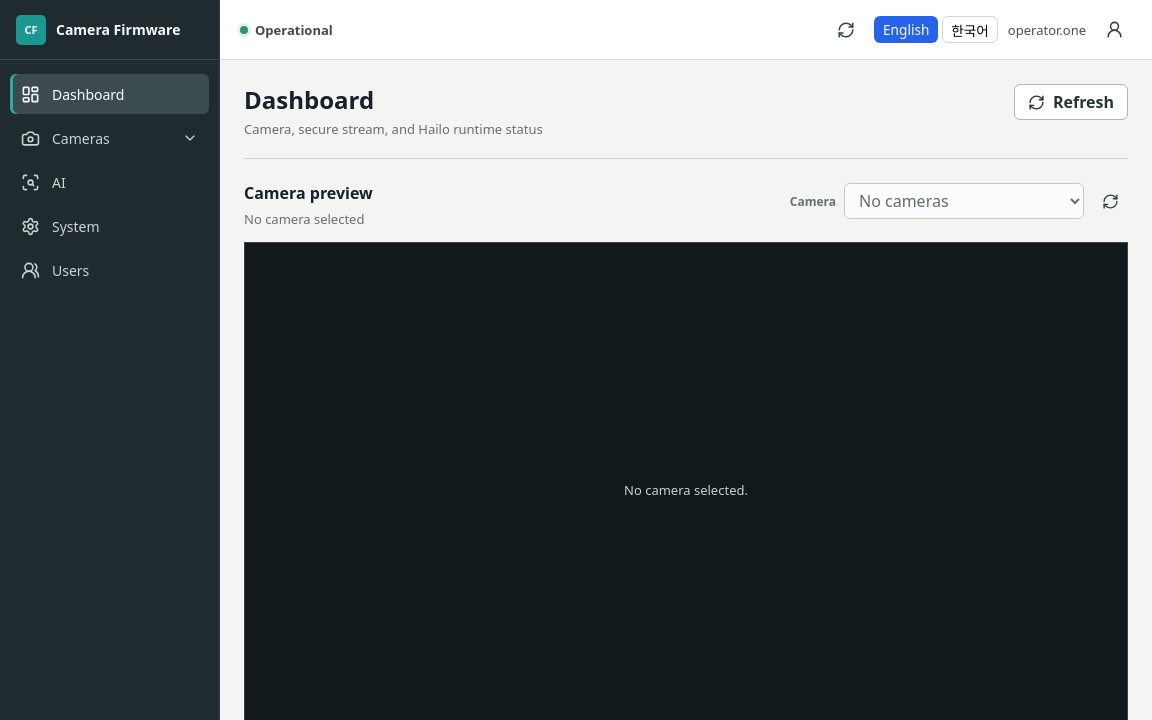
Test: App bootstrap gate › keeps one runtime settings controller across operational navigation
The image size is (1152, 720).
Expected: the heading "Dashboard" is shown, [244,83,374,116]
Click the button "Cameras". click: (110, 138)
box: [10,118,209,158]
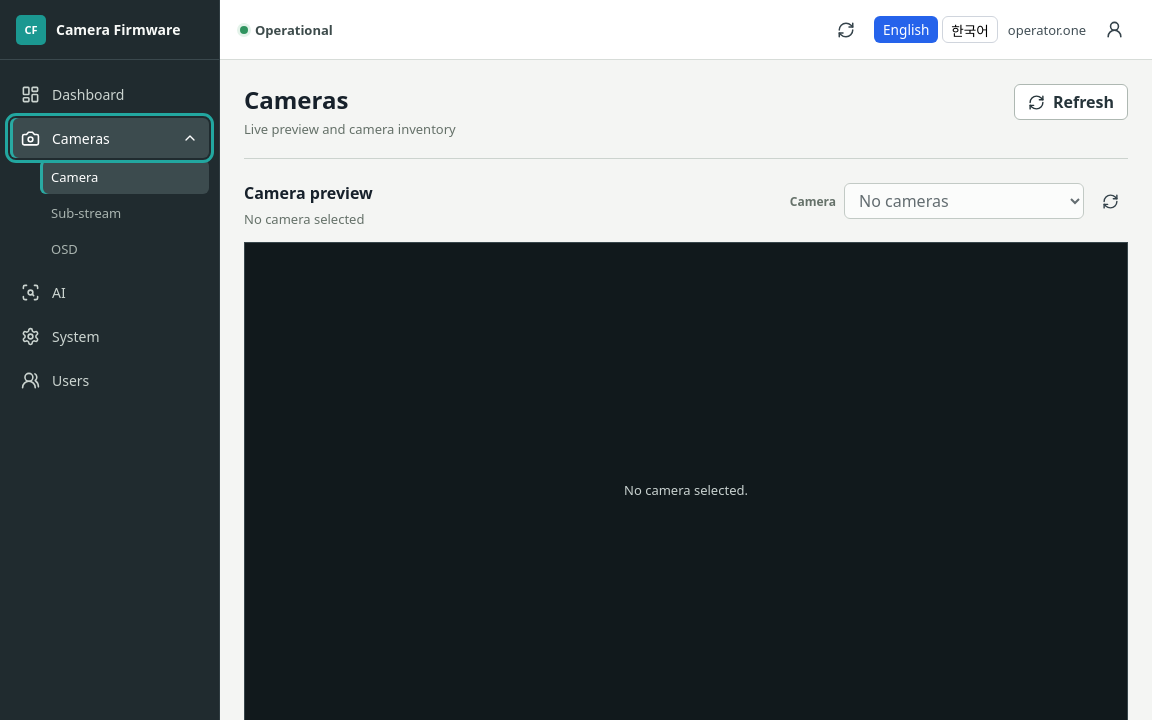
Result: the heading "Cameras" is shown at [244,83,348,116]
Click the link "AI". click: (30, 292)
box: [21,282,66,302]
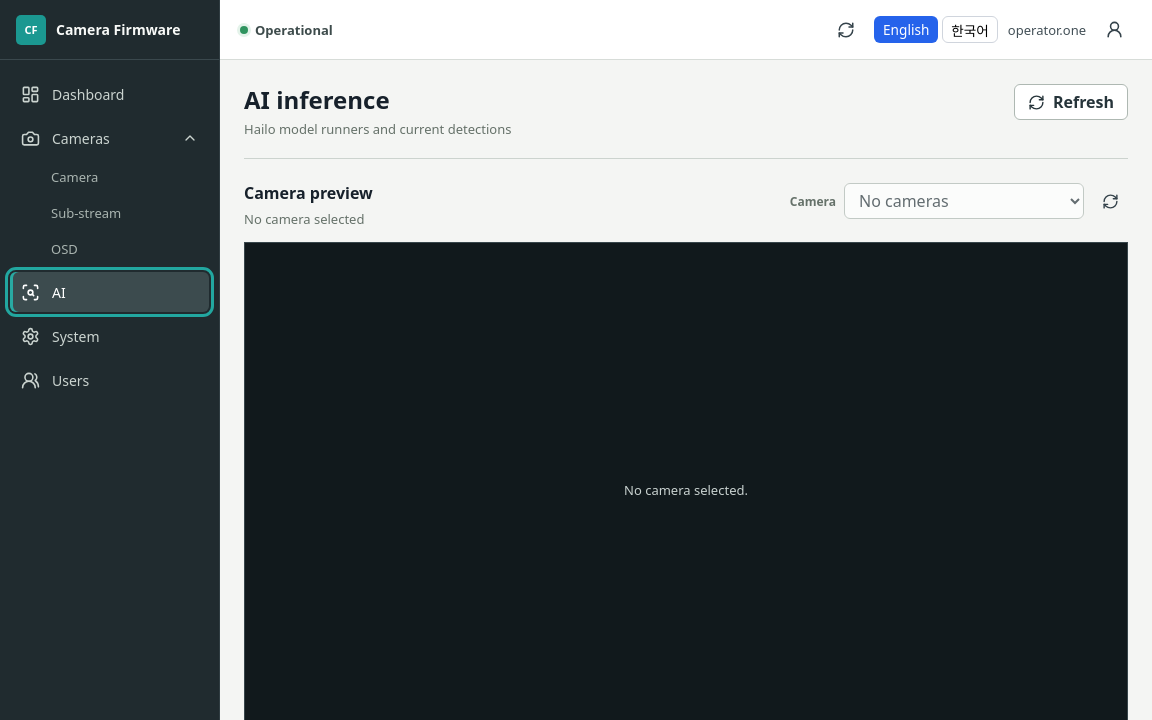
Result: the heading "AI inference" is shown at [244,83,390,116]
